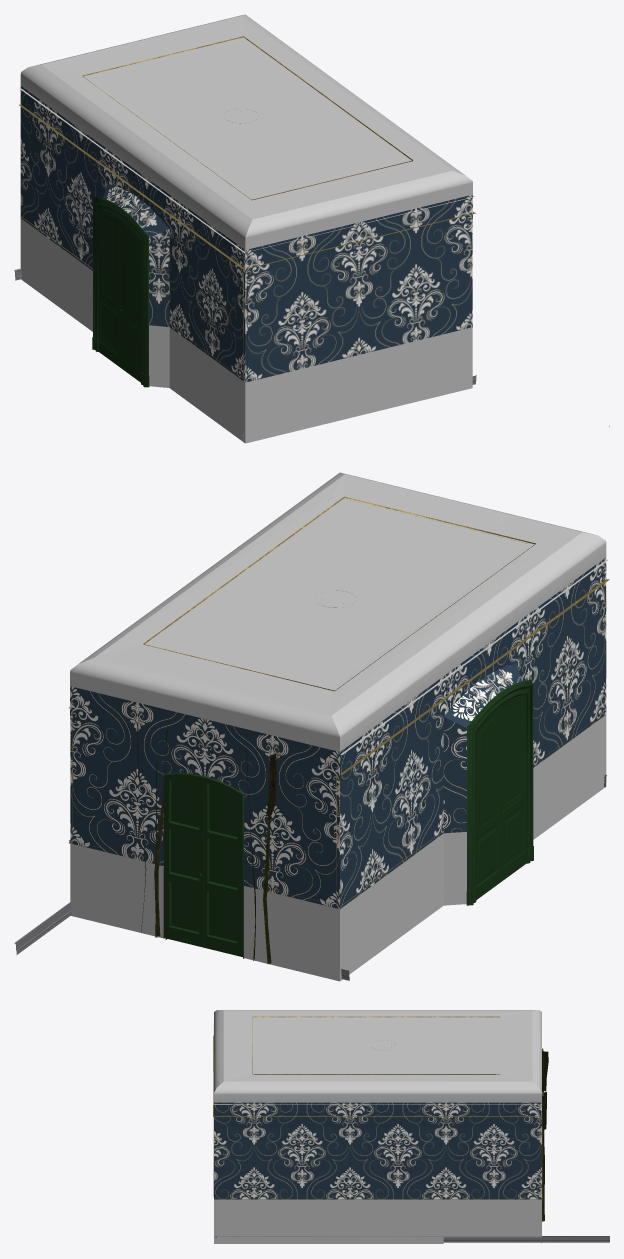
The model's file is Salo Pere Pau Montana.fbx.
3 views of the same model, one above another, from view 1: azimuth 30°, elevation 25°; view 2: azimuth 150°, elevation 25°; view 3: azimuth 270°, elevation 25° (orthographic). The views are drawn at different scales.
Parts seen in each view (by area): view 1: Salo Verd.007, Salo Verd._Sostre.002, Porta_fusta_PE_001.014, Porta_fusta_Marc_001.017, Porta_fusta_Marc_001.018, Motllura_sostre.002, Motllura Superior_001.002, Motllura Superior_001.003; view 2: Salo Verd.007, Salo Verd._Sostre.002, Porta_fusta_PE_001.012, Porta_fusta_Marc_001.015, Porta_fusta_Marc_001.017, Porta_fusta_PE_001.014, Porta_fusta_Marc_001.018, Cortina_1.013, Motllura_sostre.002, Motllura Superior_001.002, SRosa_Columna_001.010, Motllura Superior_001.003; view 3: Salo Verd.007, Salo Verd._Sostre.002, SRosa_Columna_001.010, Motllura_sostre.002, Cortina_1.013, Motllura Superior_001.002, Motllura Superior_001.003.
Part boxes in pixels (x1,y1,x2,y2): Salo Verd.007: (20,86,472,443); Salo Verd._Sostre.002: (20,14,472,249); Porta_fusta_PE_001.014: (98,209,120,367); Porta_fusta_Marc_001.017: (92,219,148,382); Porta_fusta_Marc_001.018: (92,197,149,387); Motllura_sostre.002: (82,36,412,200); Motllura Superior_001.002: (19,104,476,269); Motllura Superior_001.003: (19,88,474,252); Salo Verd.007: (70,557,606,981); Salo Verd._Sostre.002: (70,472,606,751); Porta_fusta_PE_001.012: (203,776,243,956); Porta_fusta_Marc_001.015: (163,773,204,947); Porta_fusta_Marc_001.017: (467,694,533,891); Porta_fusta_PE_001.014: (475,706,500,899); Porta_fusta_Marc_001.018: (466,680,533,905); Cortina_1.013: (134,717,280,963); Motllura_sostre.002: (143,496,535,691); Motllura Superior_001.002: (69,579,609,774); SRosa_Columna_001.010: (14,902,71,954); Motllura Superior_001.003: (340,559,607,754); Salo Verd.007: (214,1102,541,1243); Salo Verd._Sostre.002: (214,1010,541,1102); SRosa_Columna_001.010: (413,1236,609,1242); Motllura_sostre.002: (252,1016,499,1074); Cortina_1.013: (542,1048,548,1221); Motllura Superior_001.002: (213,1035,541,1117); Motllura Superior_001.003: (213,1023,541,1104).
Size of the model in its own units: 604 by 496 by 1689.
